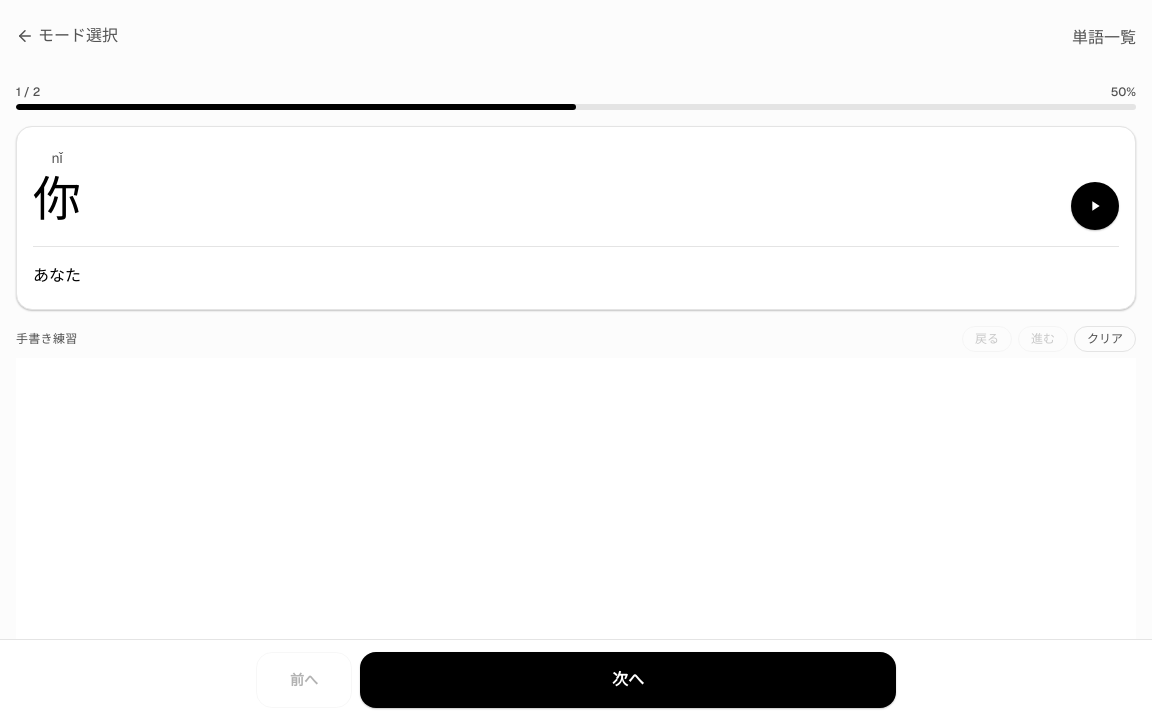
Test: LearnRunner › 暗記中に前へ戻ると前の単語を表示して中国語音声素材を再生すること
What coordinates should you click on to do the following:
click the button "次へ"
I would click on:
 (628, 680)
Its box is [360,652,896,708].
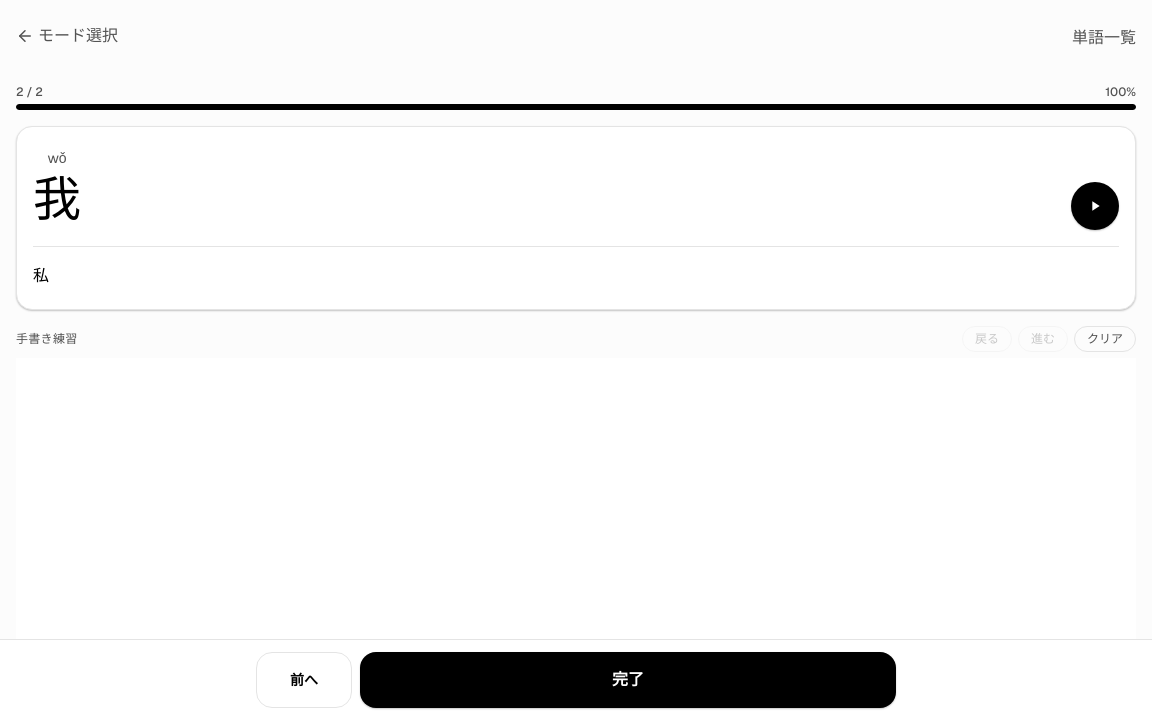
What coordinates should you click on to do the following:
click the button "前へ"
I would click on:
 (304, 680)
Its box is [256,652,352,708].
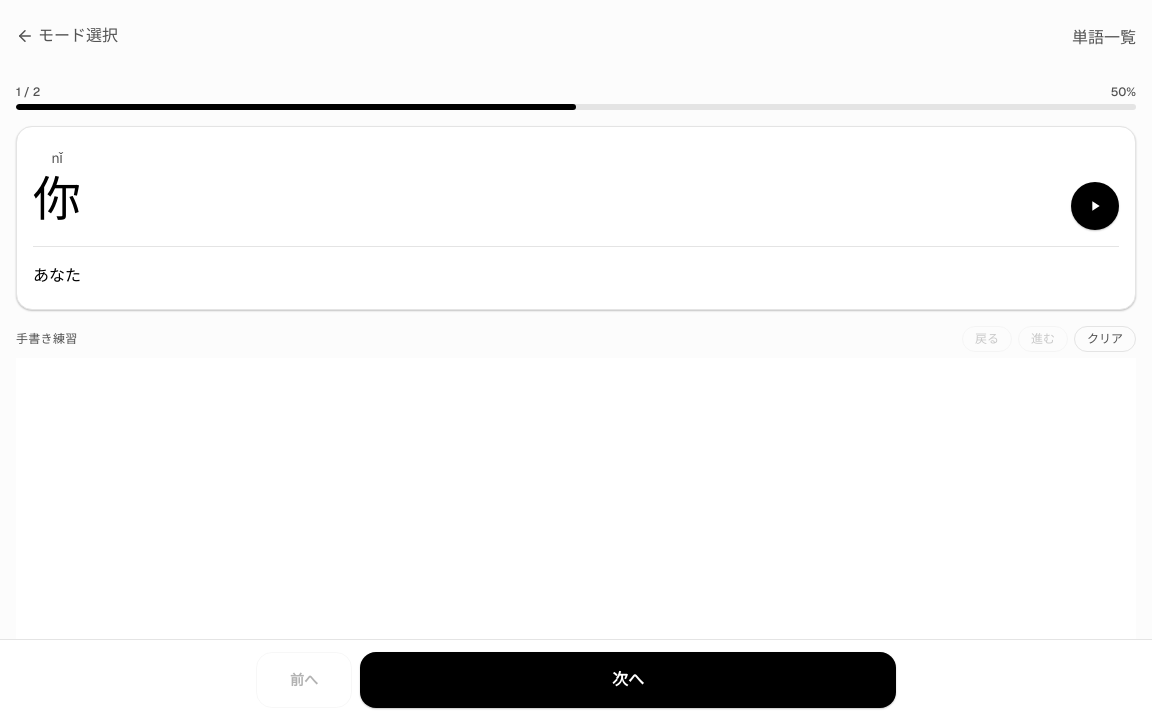
Expected: the text "nǐ" is shown, [51,147,63,170]
Expected: the text "あなた" is shown, [33,265,81,286]
